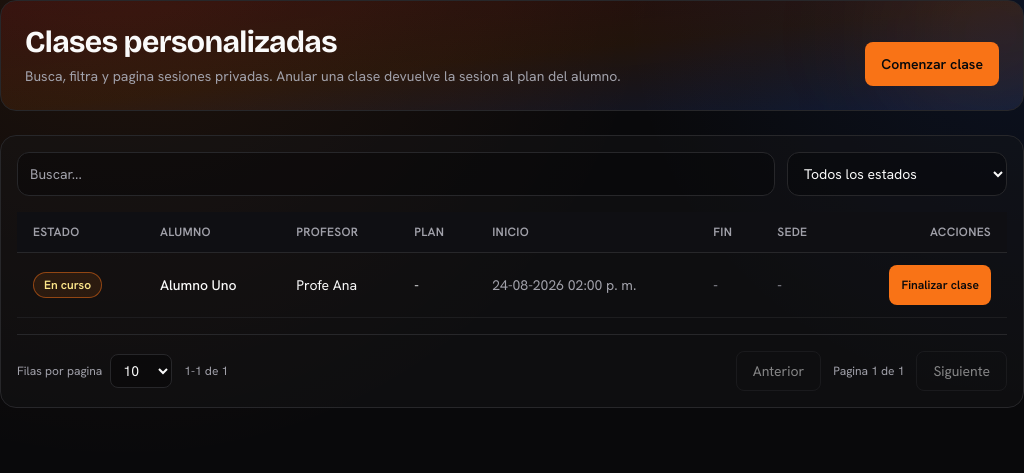
Test: TeacherPersonalizedClassPage › permite finalizar una clase en curso desde la lista
Click the button "Finalizar clase" at coordinates (940, 285), box [890,265,991,305]
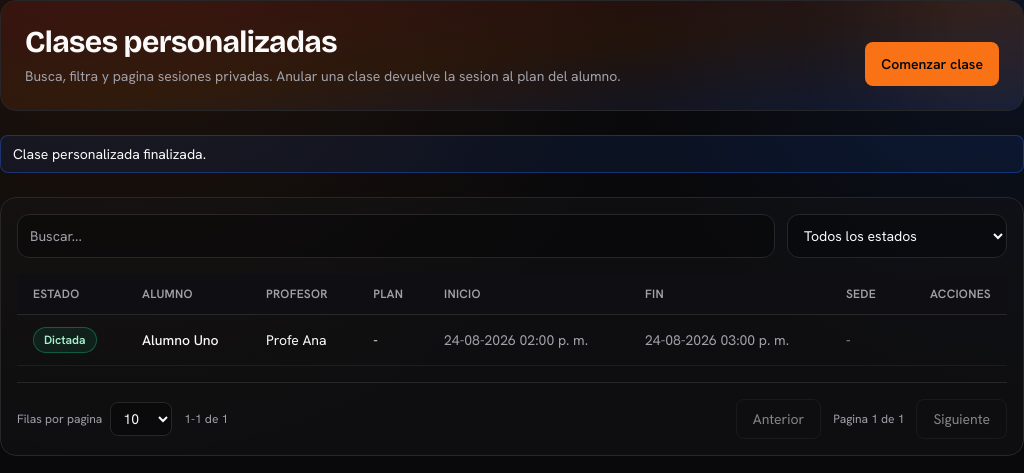
Now the text "Clase personalizada finalizada." is shown, box [0,135,1023,173]
Now the text "Dictada" is shown, box [33,327,97,353]
